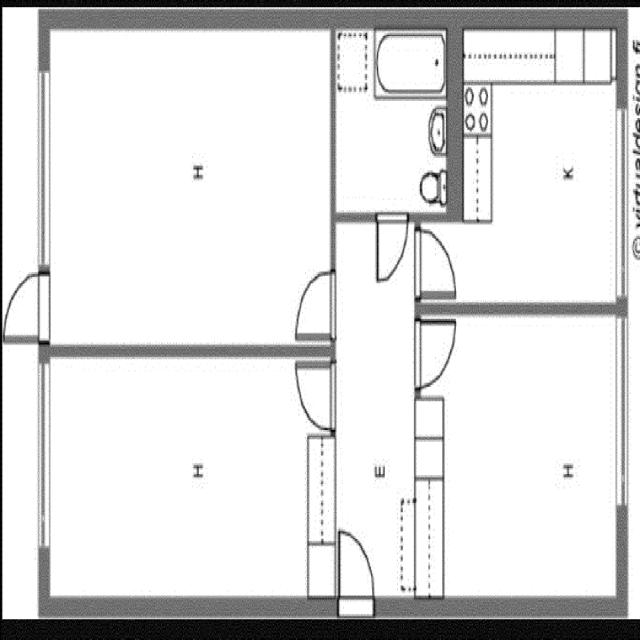door: (39, 22, 335, 358), (285, 258, 341, 342), (3, 262, 59, 342), (334, 519, 379, 615), (413, 313, 460, 397), (289, 354, 337, 436), (414, 224, 462, 304), (372, 209, 409, 288)
window: (27, 345, 59, 577), (27, 56, 58, 292), (607, 316, 634, 516), (613, 103, 631, 300)
zone: (36, 354, 335, 611), (417, 307, 630, 616), (464, 32, 624, 314), (334, 20, 452, 211), (414, 221, 462, 303)
